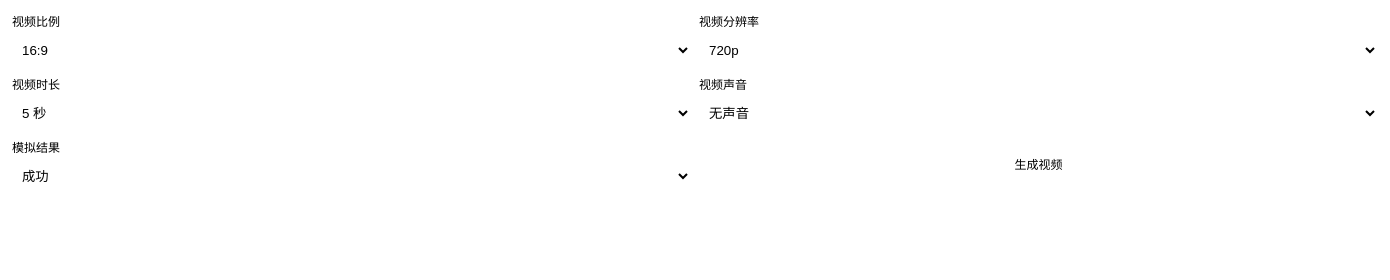
Test: VideoGenerationPanel › renders_data_driven_video_options_and_explains_voice_target_incompatibility
Select "目标音色" in the dropdown labelled "视频声音". click: (1038, 114)
box: [699,99,1378,128]
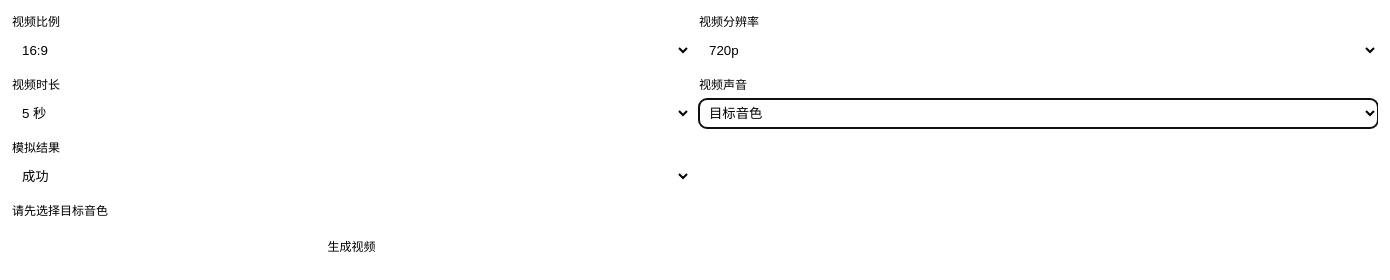
expect the button "生成视频" is disabled: met, box [12,229,691,263]
expect the text "请先选择目标音色" is shown: met, box [12,201,108,218]
